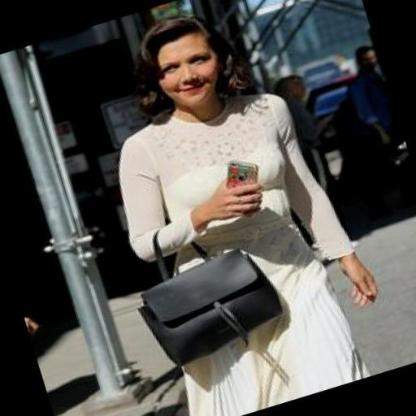bag: (139, 222, 287, 369)
person: (115, 9, 385, 416)
